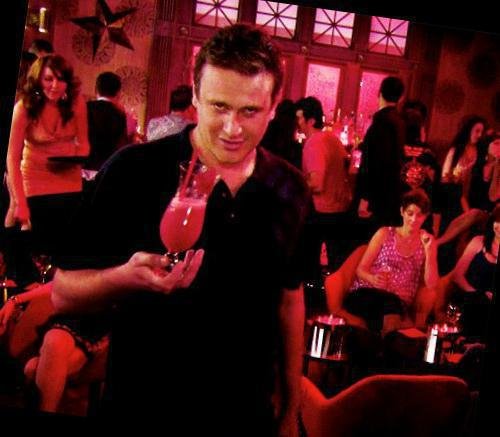Drunk: (200, 68, 266, 161)
